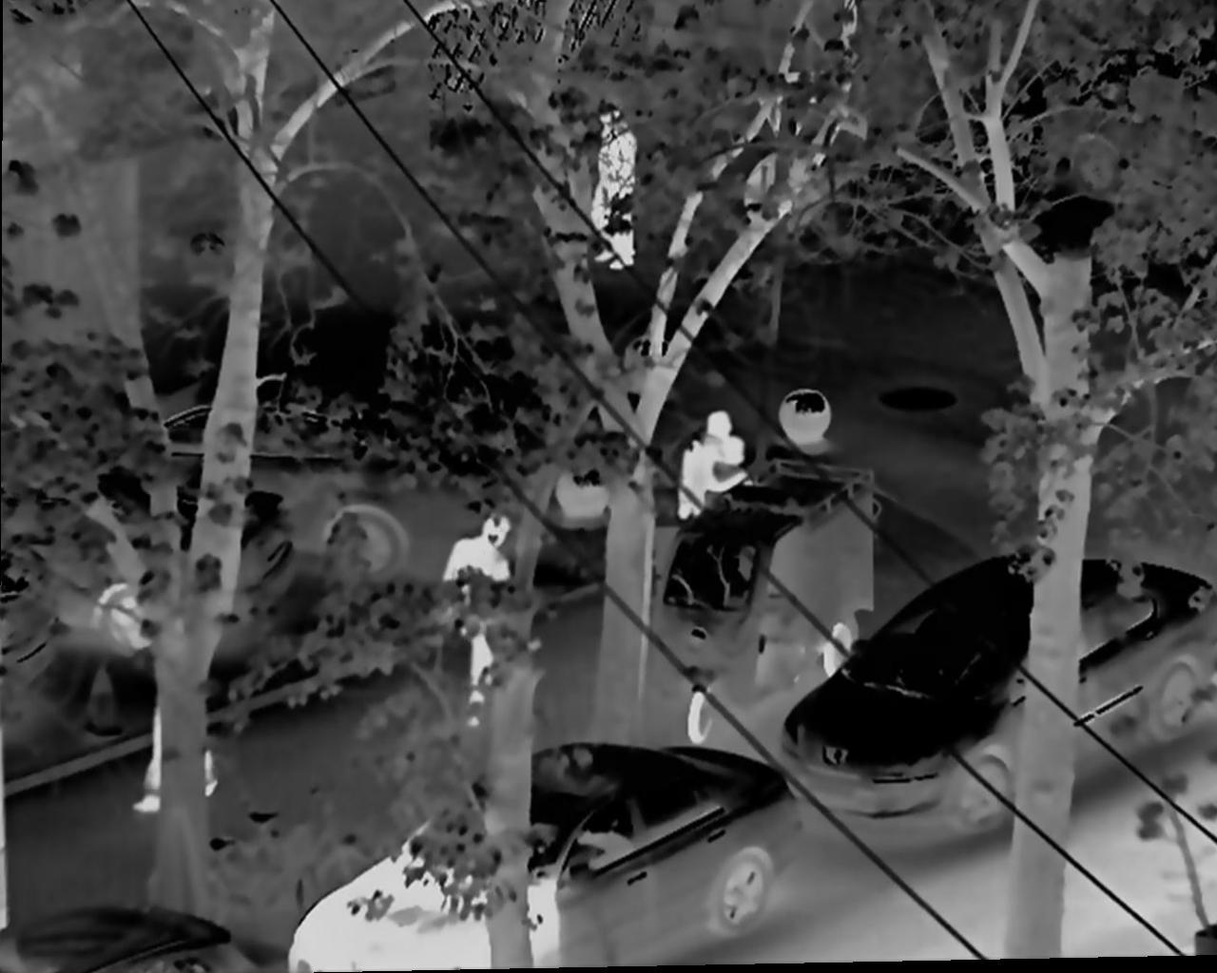person: (436, 501, 531, 725), (140, 625, 222, 834), (586, 105, 646, 283), (676, 406, 745, 549)
